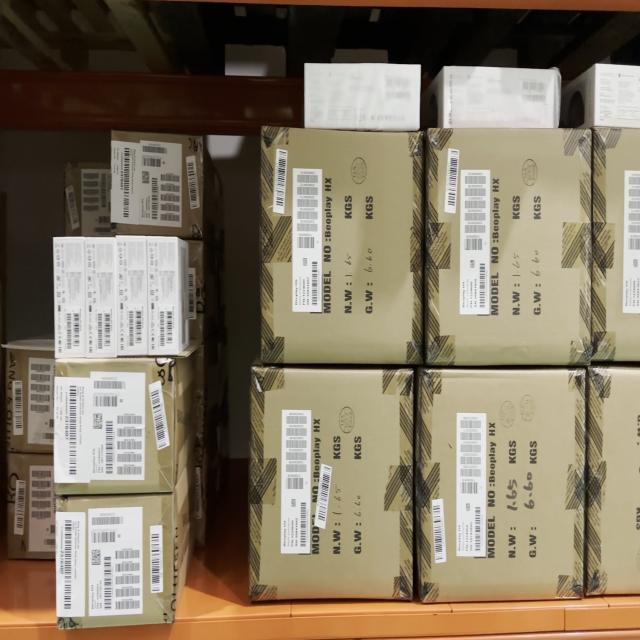box: (430, 130, 590, 365), (252, 370, 411, 602), (264, 128, 419, 362), (425, 374, 584, 600), (56, 366, 173, 492), (56, 502, 170, 626), (305, 68, 419, 128), (446, 74, 558, 125), (85, 240, 118, 355), (150, 240, 179, 352), (120, 240, 148, 353), (56, 241, 82, 359)
